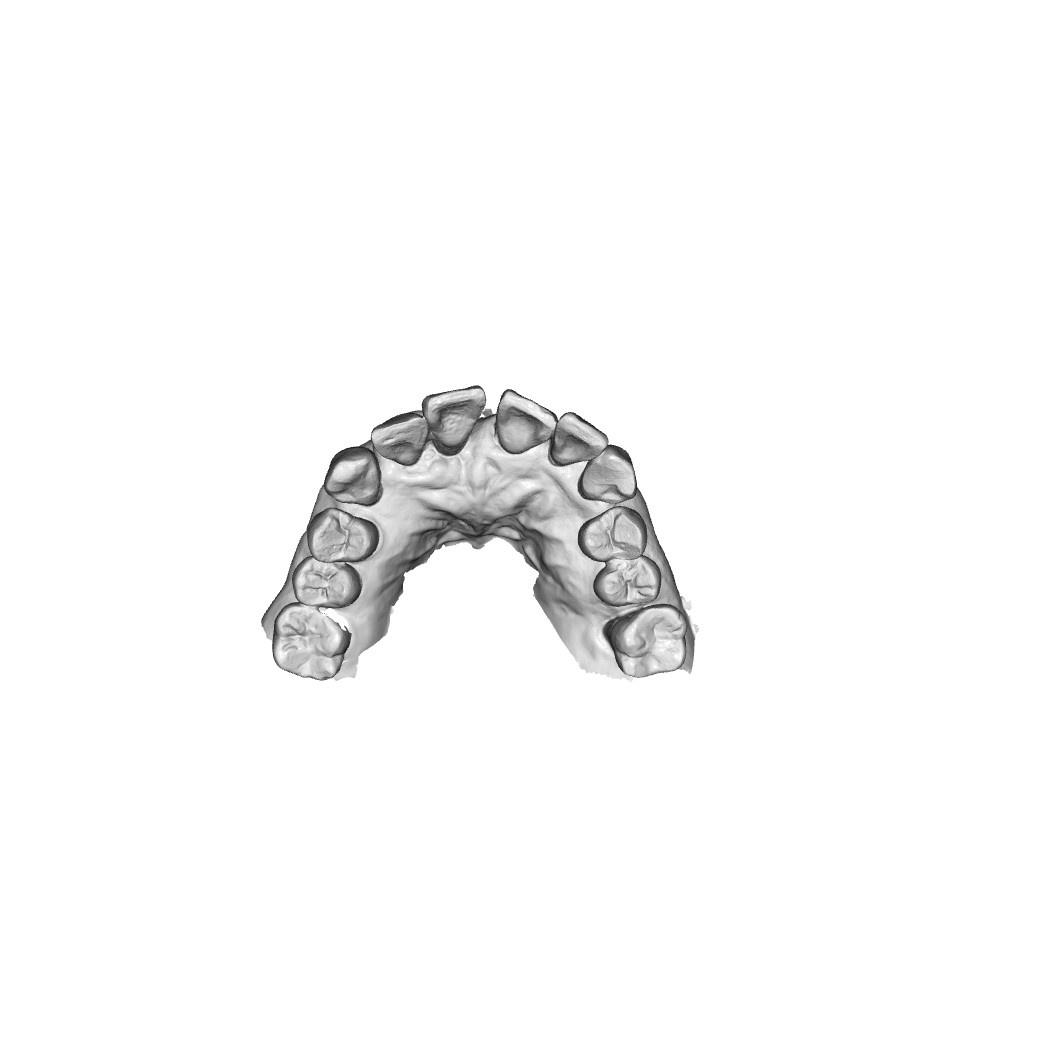canine: (580, 449, 636, 501), (328, 448, 378, 504)
incisor: (423, 383, 485, 447), (550, 409, 611, 473), (493, 387, 556, 447), (373, 412, 429, 466)
molar: (274, 610, 349, 679), (619, 610, 687, 678)
premolar: (297, 559, 359, 613), (311, 507, 373, 561), (586, 509, 642, 563), (603, 556, 657, 603)
